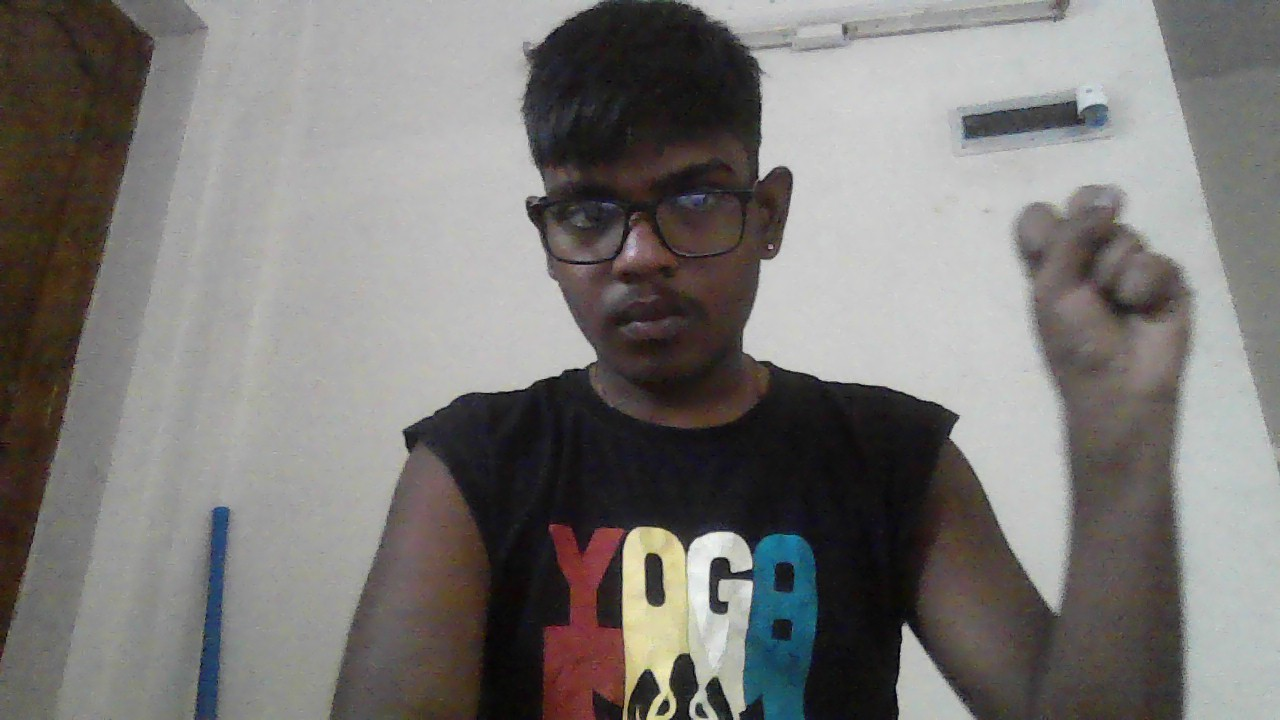S: (1011, 183, 1194, 404)
